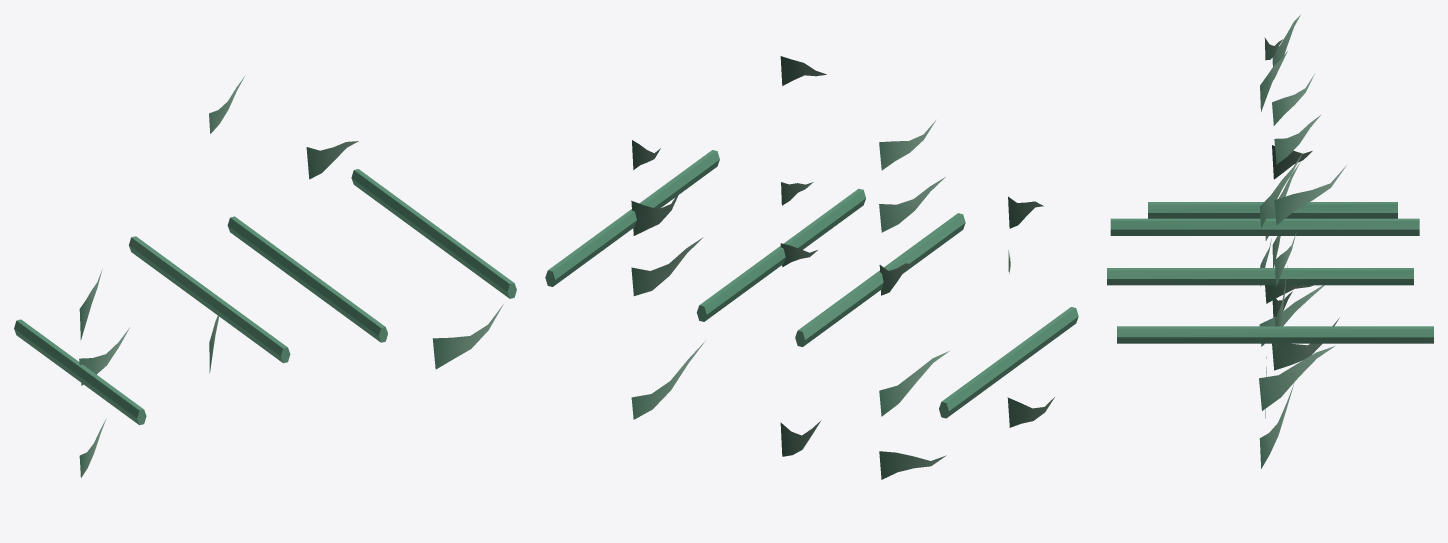
File: mesh-plant-049-zigzag-stem_LOD1.glb
3 renders of one model, left to right at view 1: azimuth 30°, elevation 25°; view 2: azimuth 150°, elevation 25°; view 3: azimuth 270°, elevation 25°, orthographic. The views are drawn at different scales.
Visible parts, largest first — view 1: geometry_0; view 2: geometry_0; view 3: geometry_0.
Boxes of the visible parts, x1=… form: geometry_0: x1=14, y1=76, x2=516, y2=477; geometry_0: x1=545, y1=56, x2=1078, y2=479; geometry_0: x1=1107, y1=15, x2=1433, y2=468.
Size of the model in its own units: 1.94 by 1.67 by 1.17.
